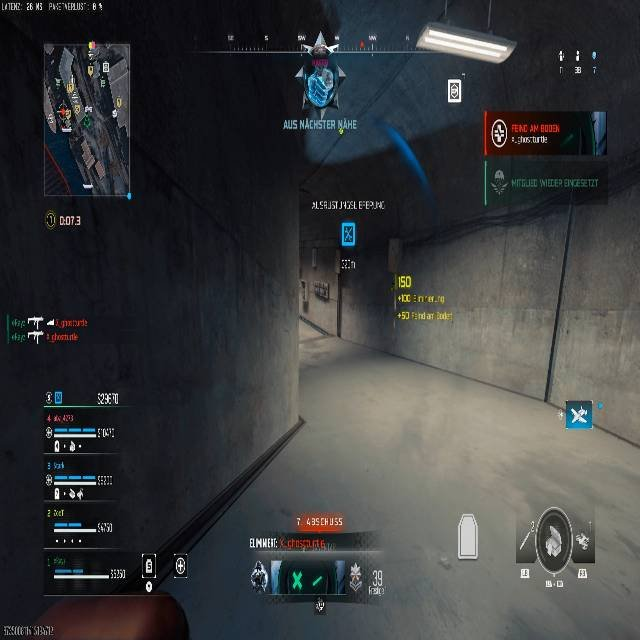head: (310, 45, 329, 67)
player: (293, 35, 346, 108)
